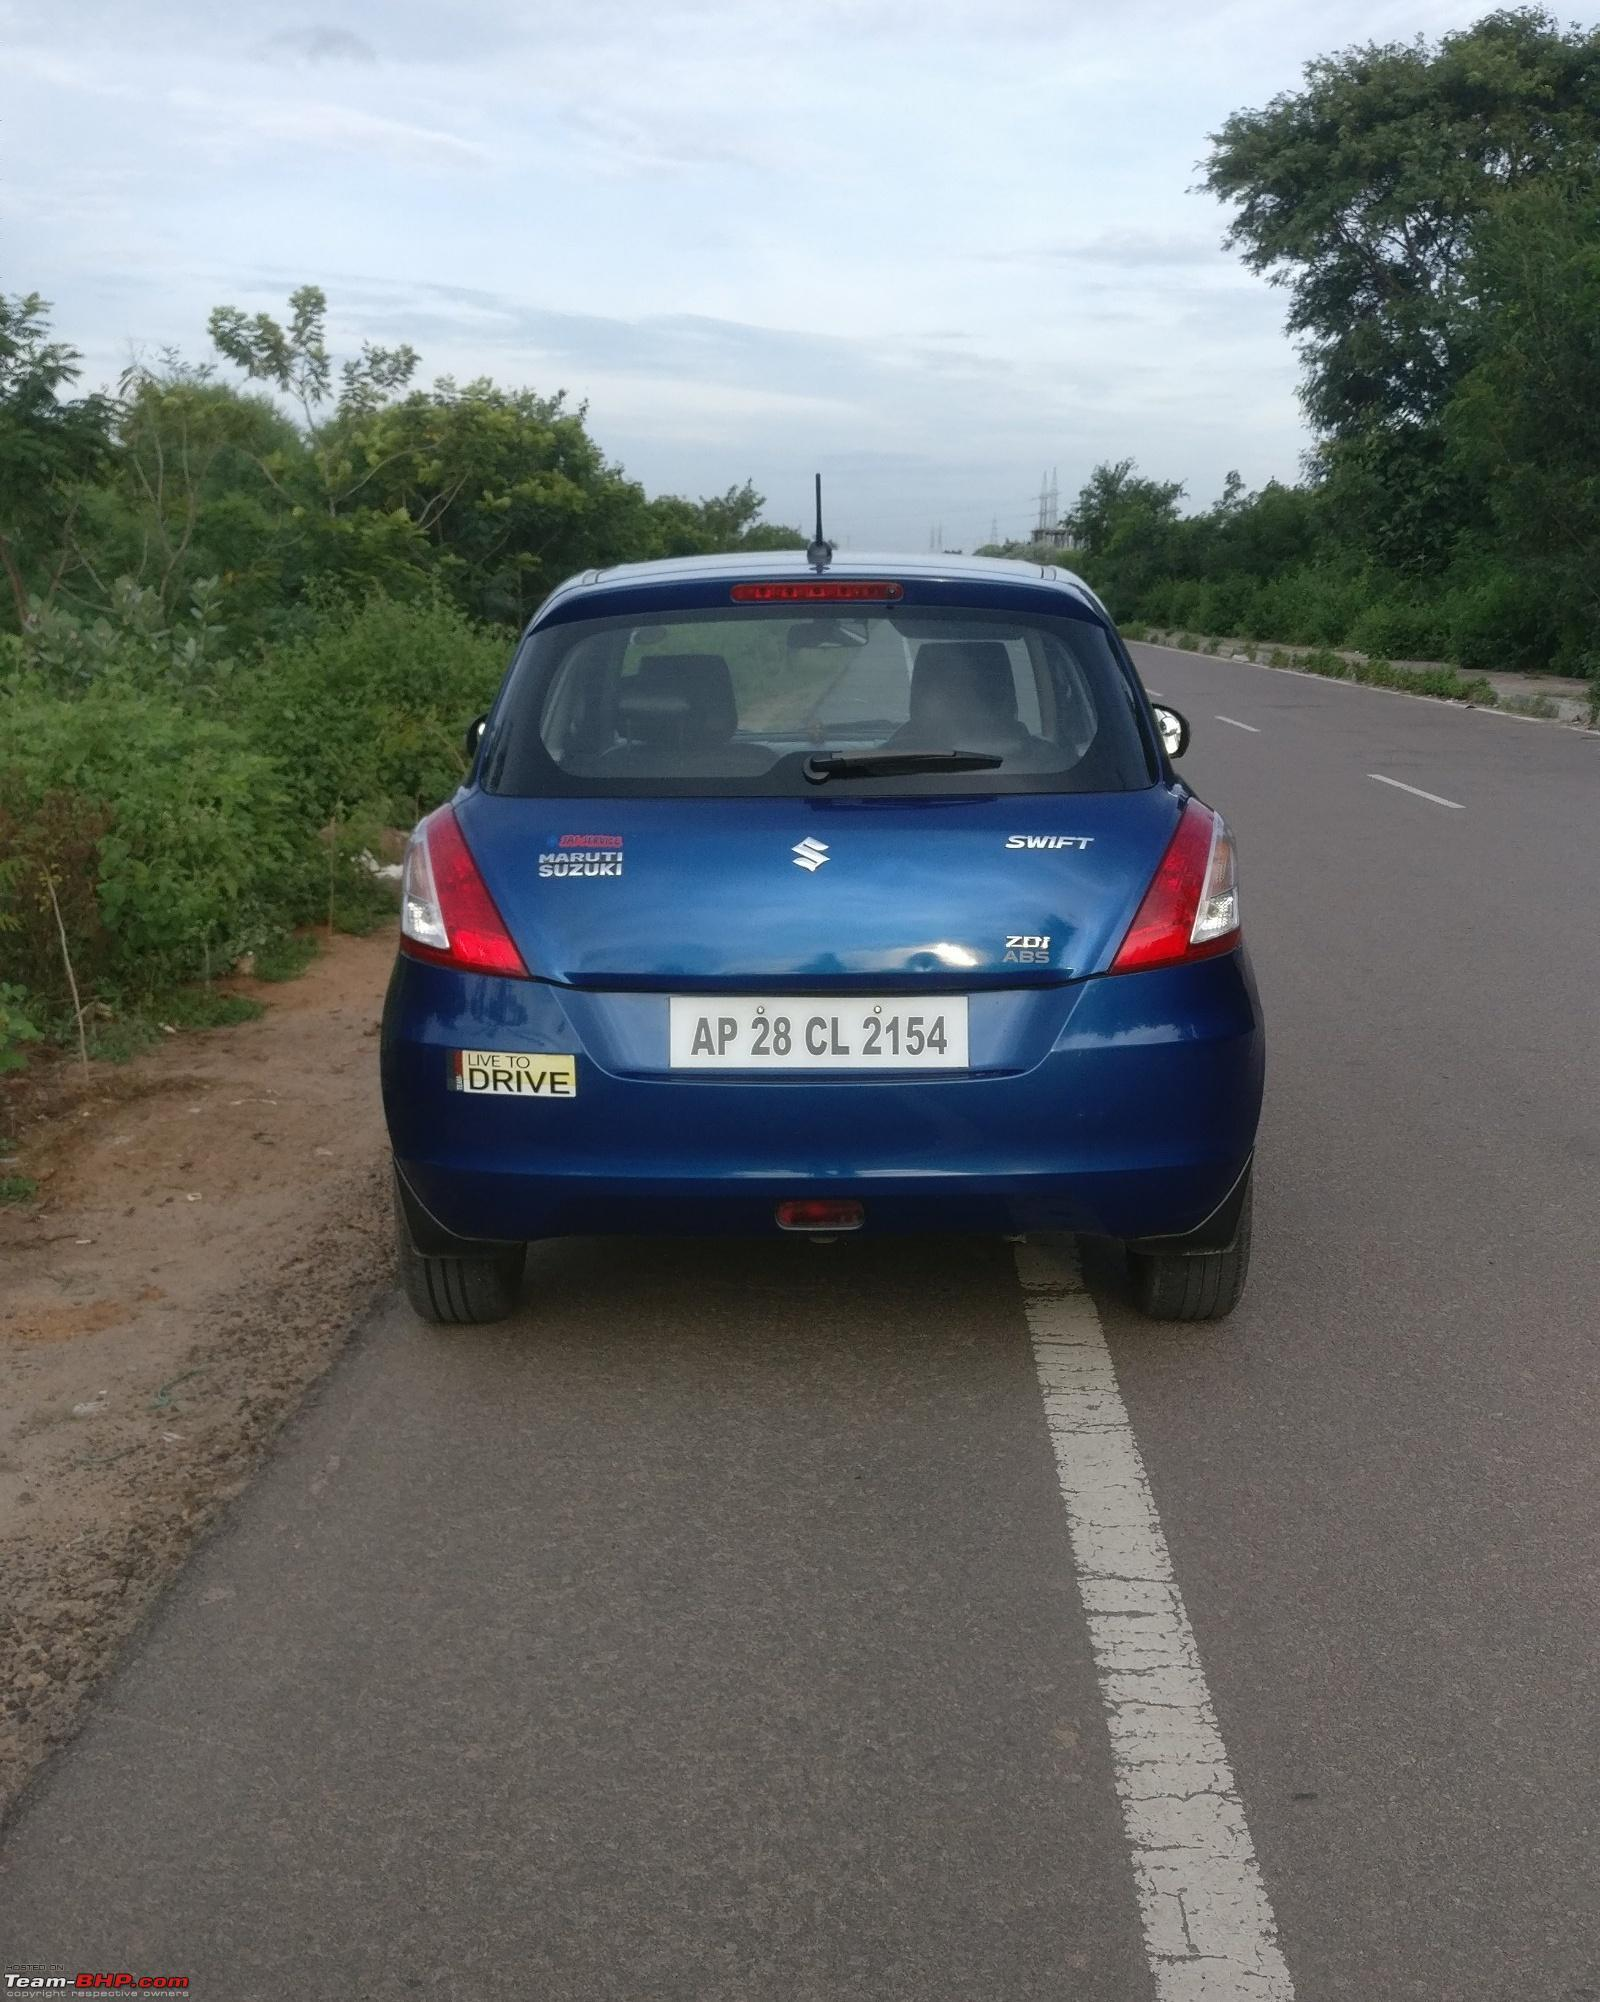car: (181, 371, 1357, 1399)
